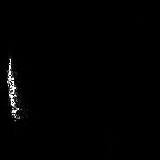ship: (5, 56, 26, 122)
